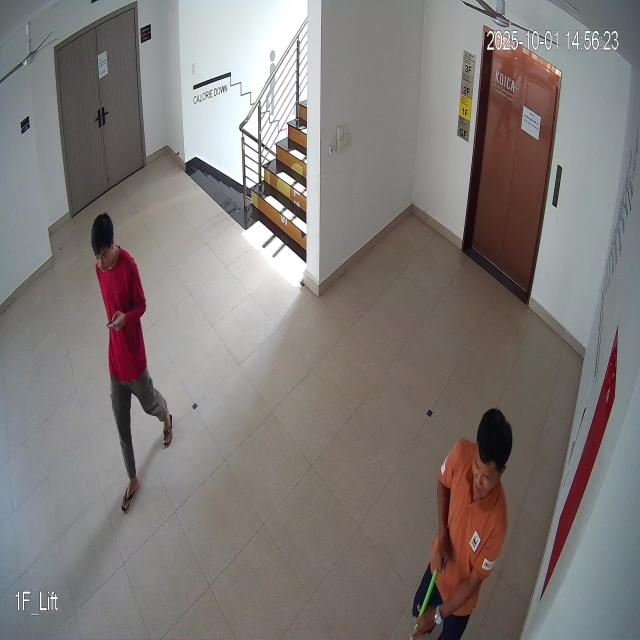face: (468, 402, 516, 506), (87, 202, 117, 278)
